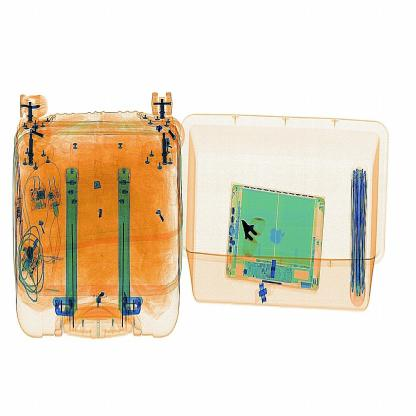gun: (232, 202, 268, 262)
